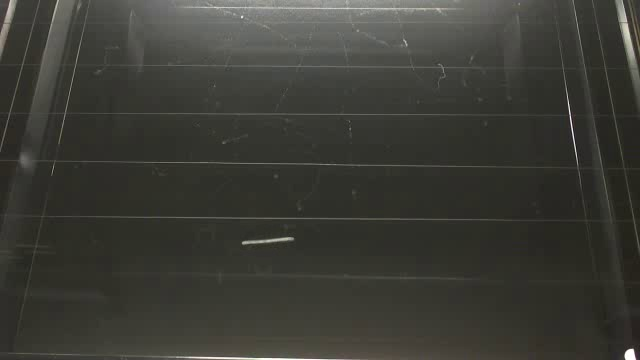Alfa: (238, 236, 298, 248)
